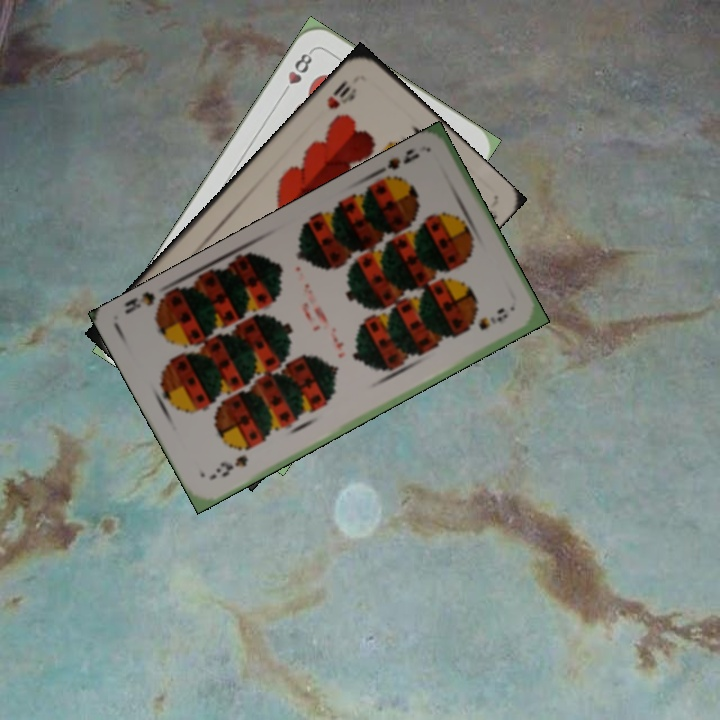H10: (322, 76, 360, 112)
H8: (277, 46, 316, 99)
S9: (370, 144, 423, 189), (211, 451, 251, 480)
